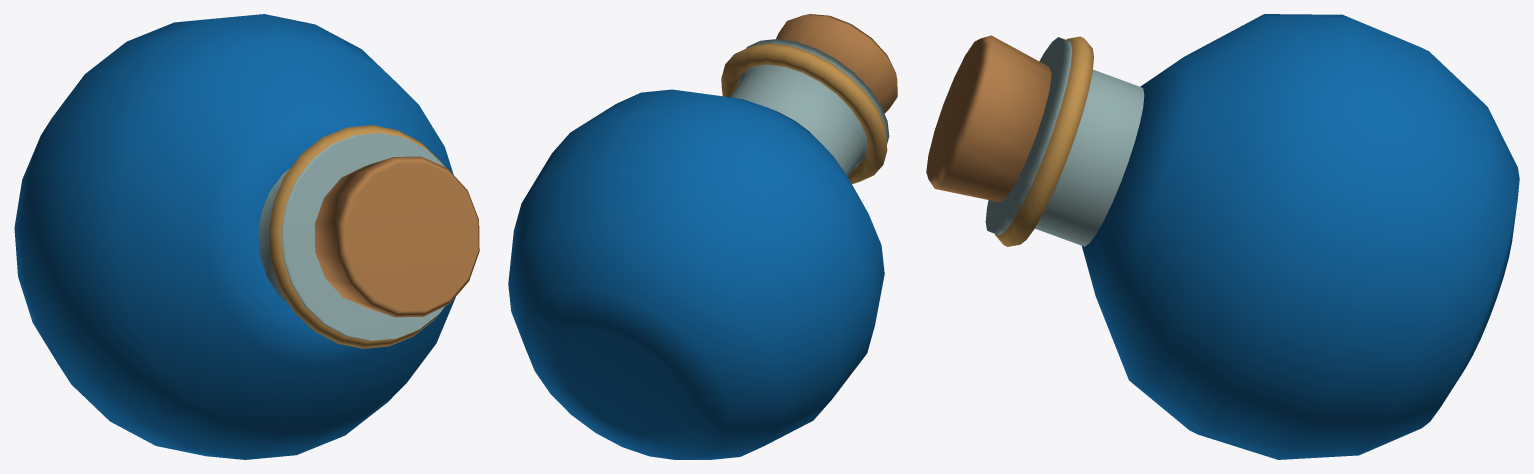
The model's file is mana_s.glb.
3 renders of one model, left to right at view 1: azimuth 30°, elevation 25°; view 2: azimuth 150°, elevation 25°; view 3: azimuth 270°, elevation 25°, orthographic. The views are drawn at different scales.
Parts seen in each view (by area): view 1: SM_mana_s; view 2: SM_mana_s; view 3: SM_mana_s.
Part boxes in pixels (bbox=[...]): SM_mana_s: bbox=[14, 14, 479, 459]; SM_mana_s: bbox=[508, 14, 897, 459]; SM_mana_s: bbox=[926, 14, 1519, 459].
Size of the model in its own units: 0.236 by 0.2358 by 0.3133.
